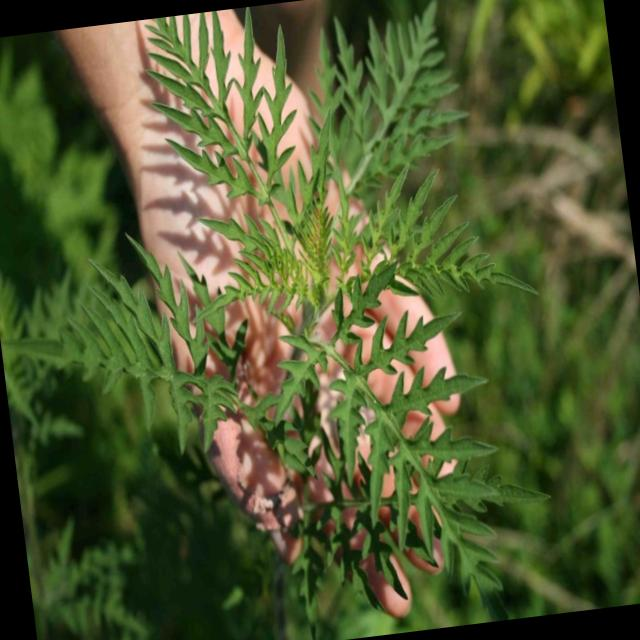ambrosia: (289, 278, 497, 610), (48, 226, 286, 491), (322, 140, 513, 308), (159, 11, 300, 224)
